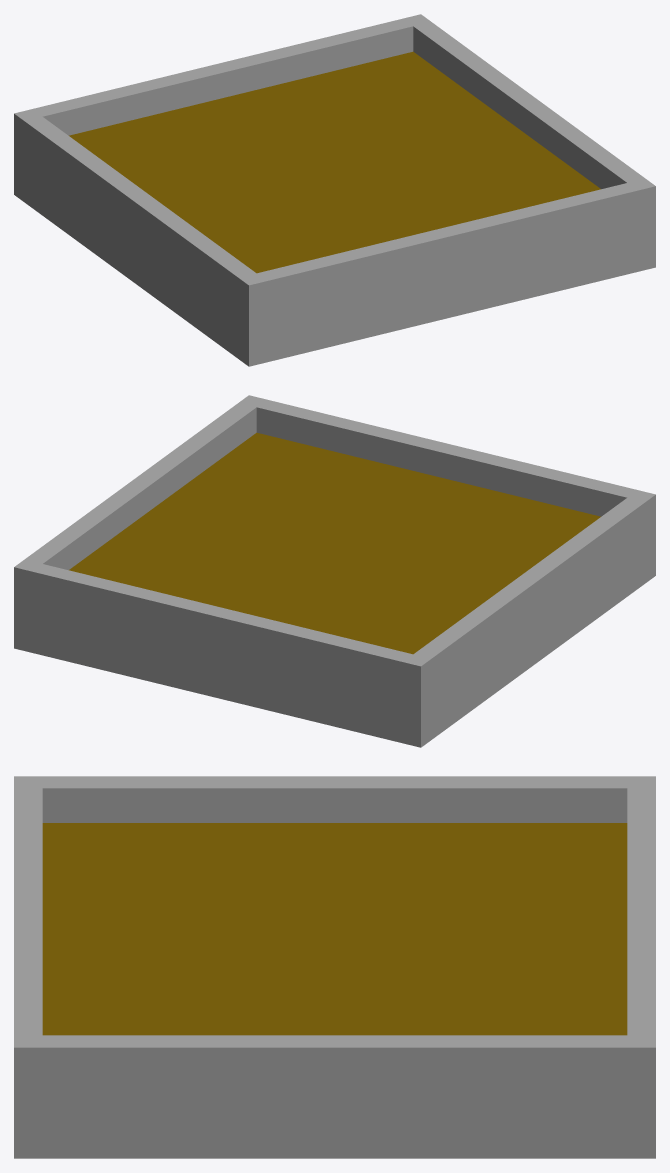
File: tree-pot.glb
The picture shows the model from 3 angles, top to bottom: view 1: azimuth 30°, elevation 25°; view 2: azimuth 150°, elevation 25°; view 3: azimuth 270°, elevation 25°; orthographic projection. The views are drawn at different scales.
Visible parts, largest first — view 1: TREE POT; view 2: TREE POT; view 3: TREE POT.
Boxes of the visible parts, x1,y1,x2,y2 form: TREE POT: (14,14,655,366); TREE POT: (14,395,655,747); TREE POT: (14,776,655,1158).
Bounding box in the file's own units: 2 × 0.3817 × 2.
1 material, 1 textured.
